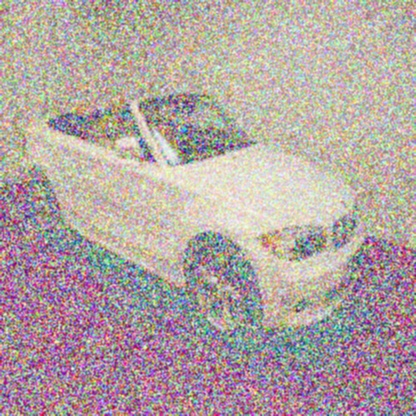Vehicle: (22, 93, 368, 348)
